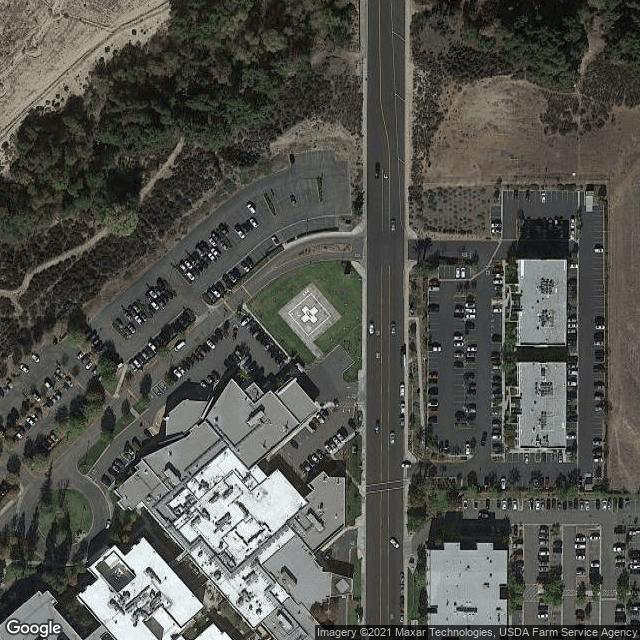Helipad: (283, 291, 334, 338)
